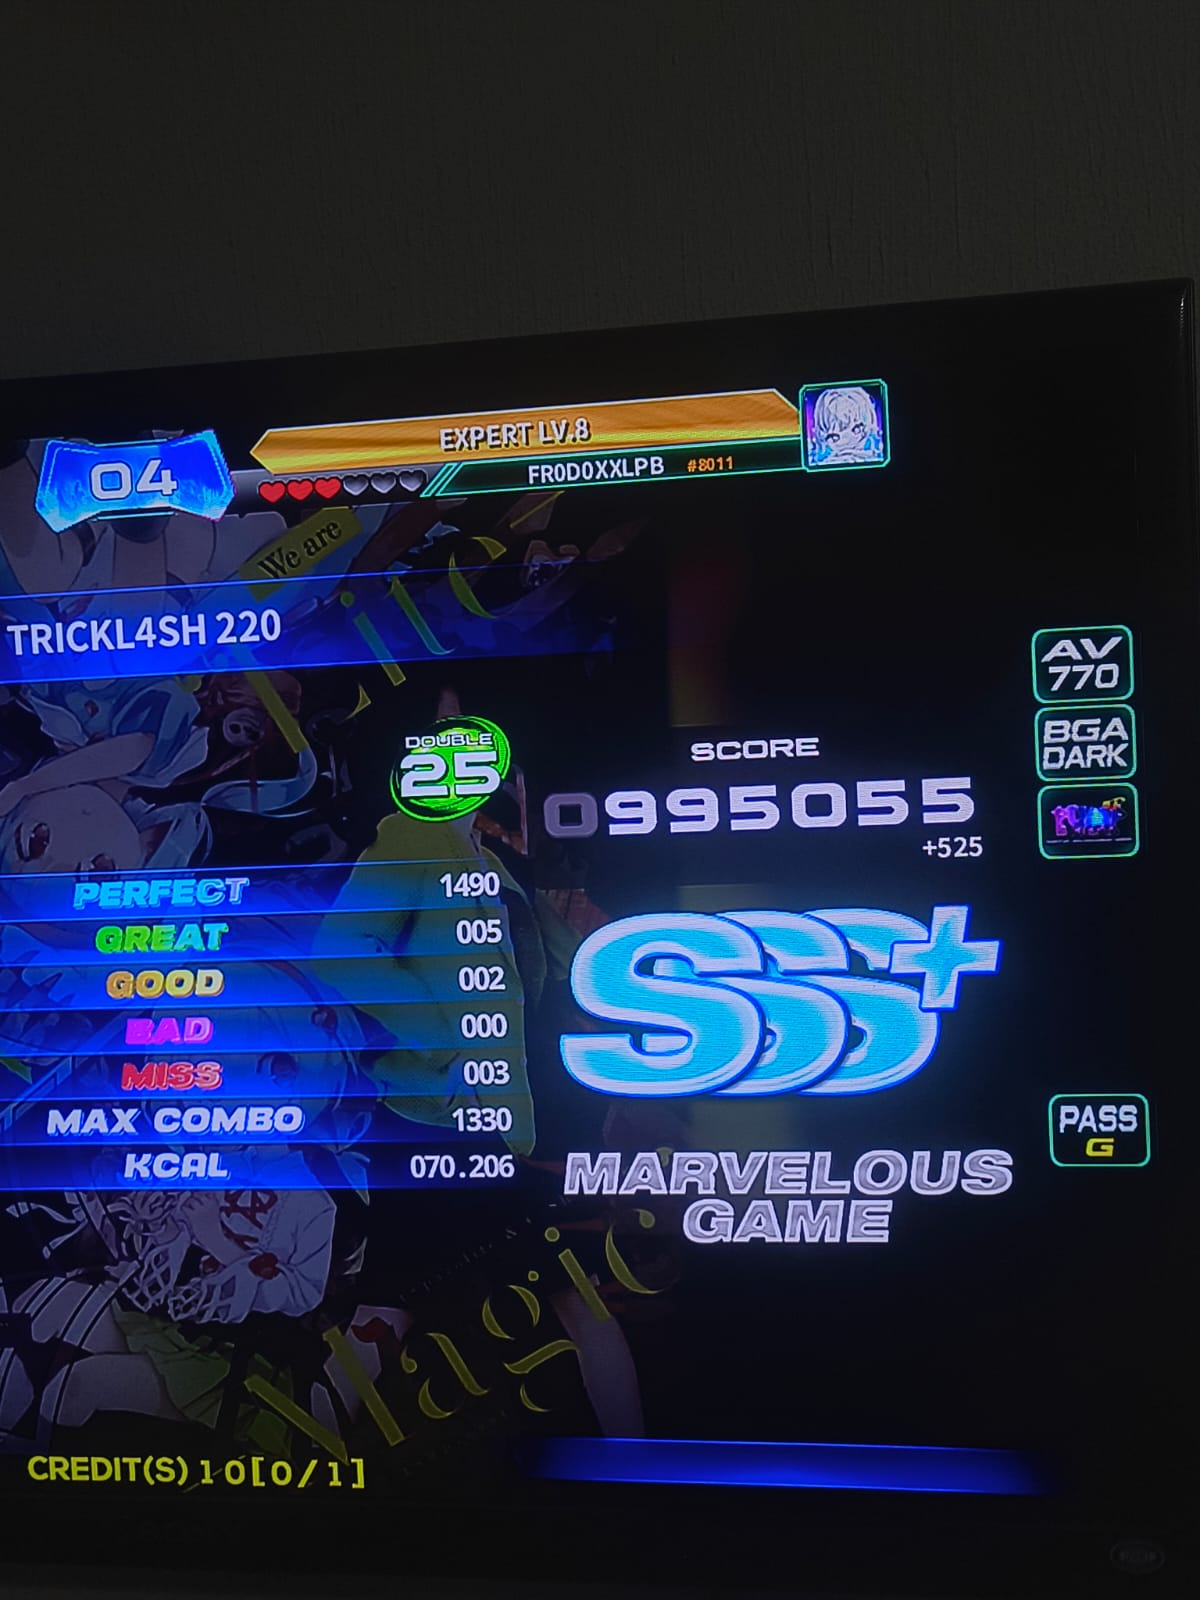difficulty: (395, 711, 517, 845)
fullscore: (43, 406, 1200, 1600), (541, 728, 991, 834)
rank: (529, 913, 1012, 1107)
song_name: (0, 598, 519, 664)
